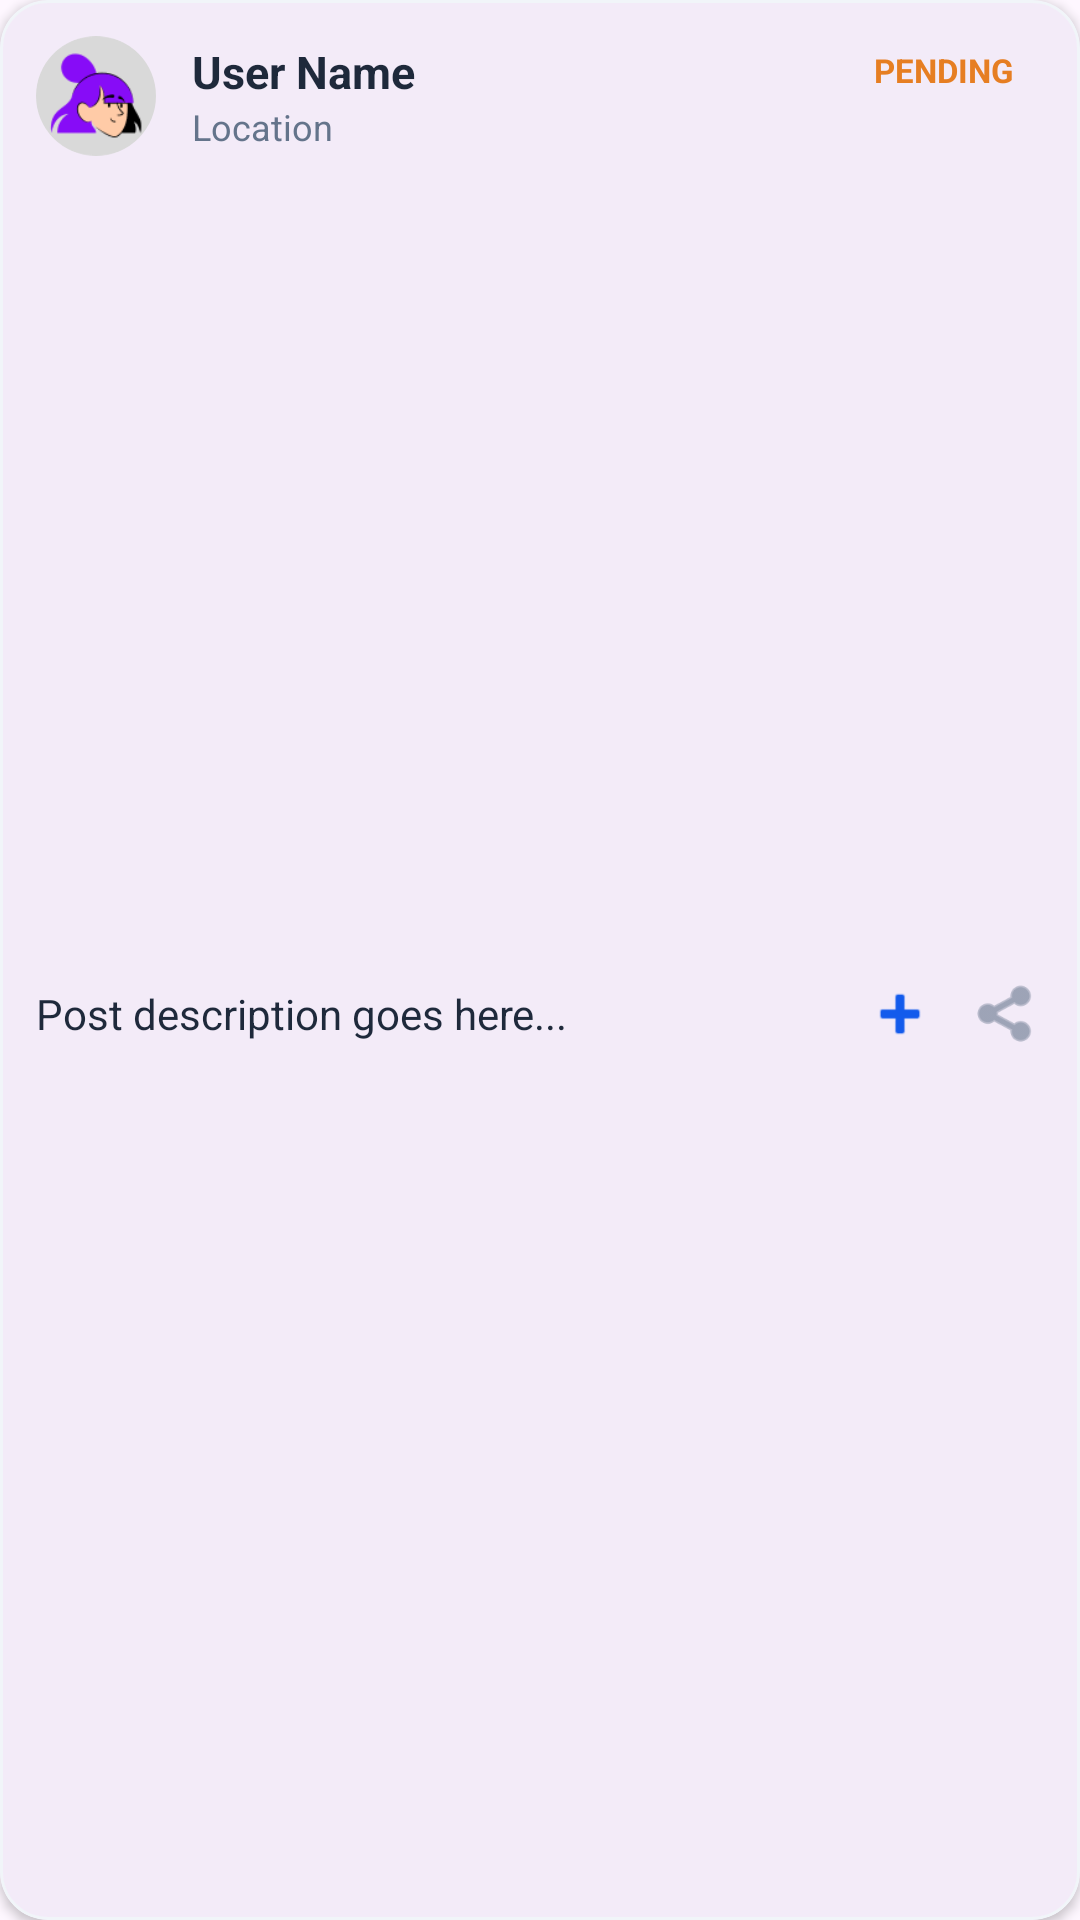

Point at icon controls on the screen. Image size 1080×1920, points as (x=x, y=y).
add: (x=900, y=1014)
profile: (x=96, y=96)
share: (x=1004, y=1014)
